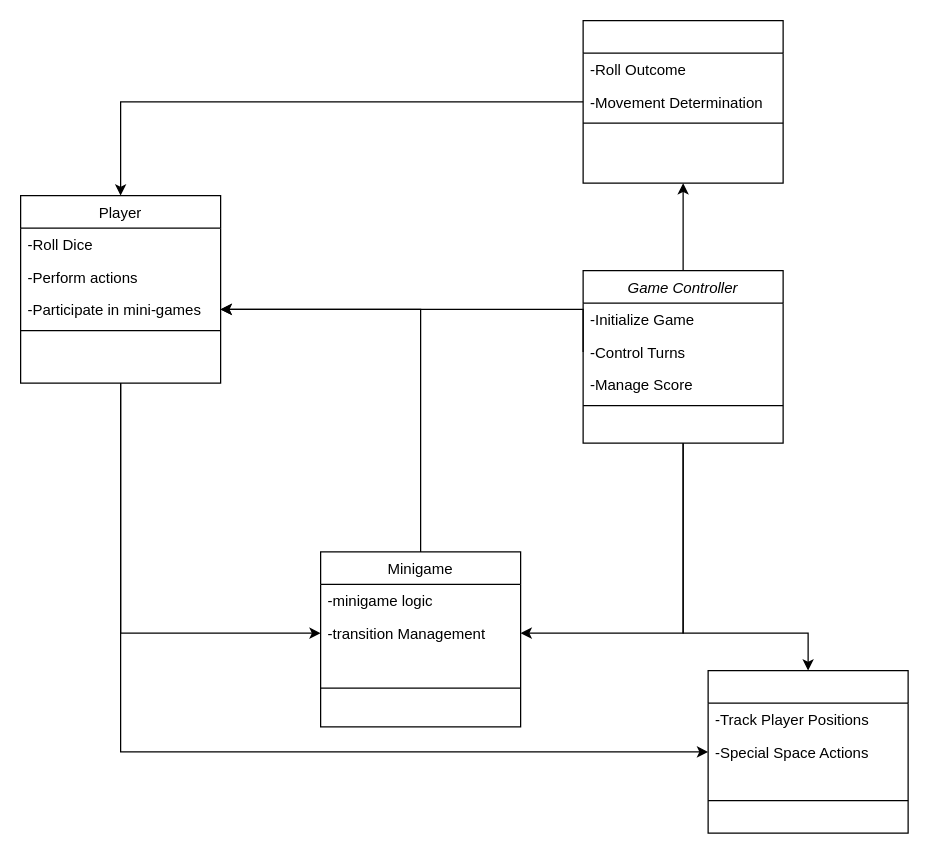
This 929x854 diagram has some shape labels left out. The box of each missing label's shape, as (x1, y1, x2, y2) in pixels:
Dice: (582, 19, 783, 183)
GameBoard: (707, 669, 908, 833)
